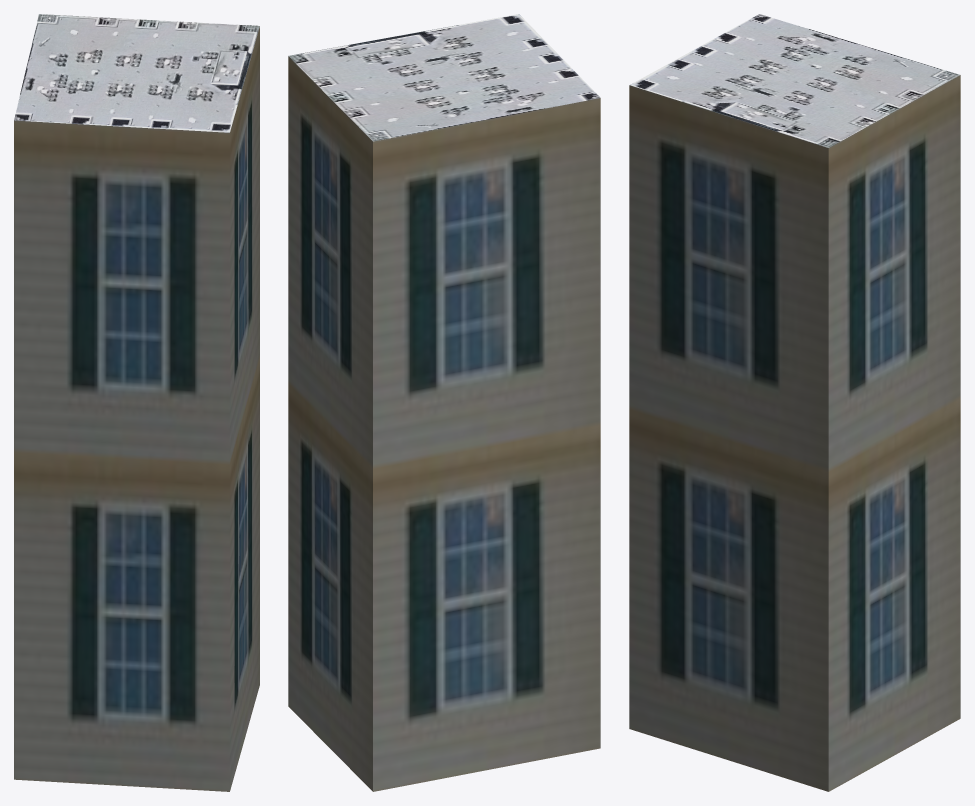
File: ResTex__141.fbx
3 renders of one model, left to right at view 1: azimuth 30°, elevation 25°; view 2: azimuth 150°, elevation 25°; view 3: azimuth 270°, elevation 25°, orthographic. The views are drawn at different scales.
Parts seen in each view (by area): view 1: CityEngineMaterial_7_m, CityEngineMaterial_4_m; view 2: CityEngineMaterial_7_m, CityEngineMaterial_4_m; view 3: CityEngineMaterial_7_m, CityEngineMaterial_4_m.
Boxes of the visible parts, x1,y1,x2,y2 form: CityEngineMaterial_7_m: (14,26,259,791); CityEngineMaterial_4_m: (14,14,259,132); CityEngineMaterial_7_m: (288,56,600,791); CityEngineMaterial_4_m: (288,14,600,141); CityEngineMaterial_7_m: (629,75,960,791); CityEngineMaterial_4_m: (629,14,959,147).
Size of the model in its own units: 2.68 by 6 by 2.8.
Materials: 2 (2 with a texture image).
